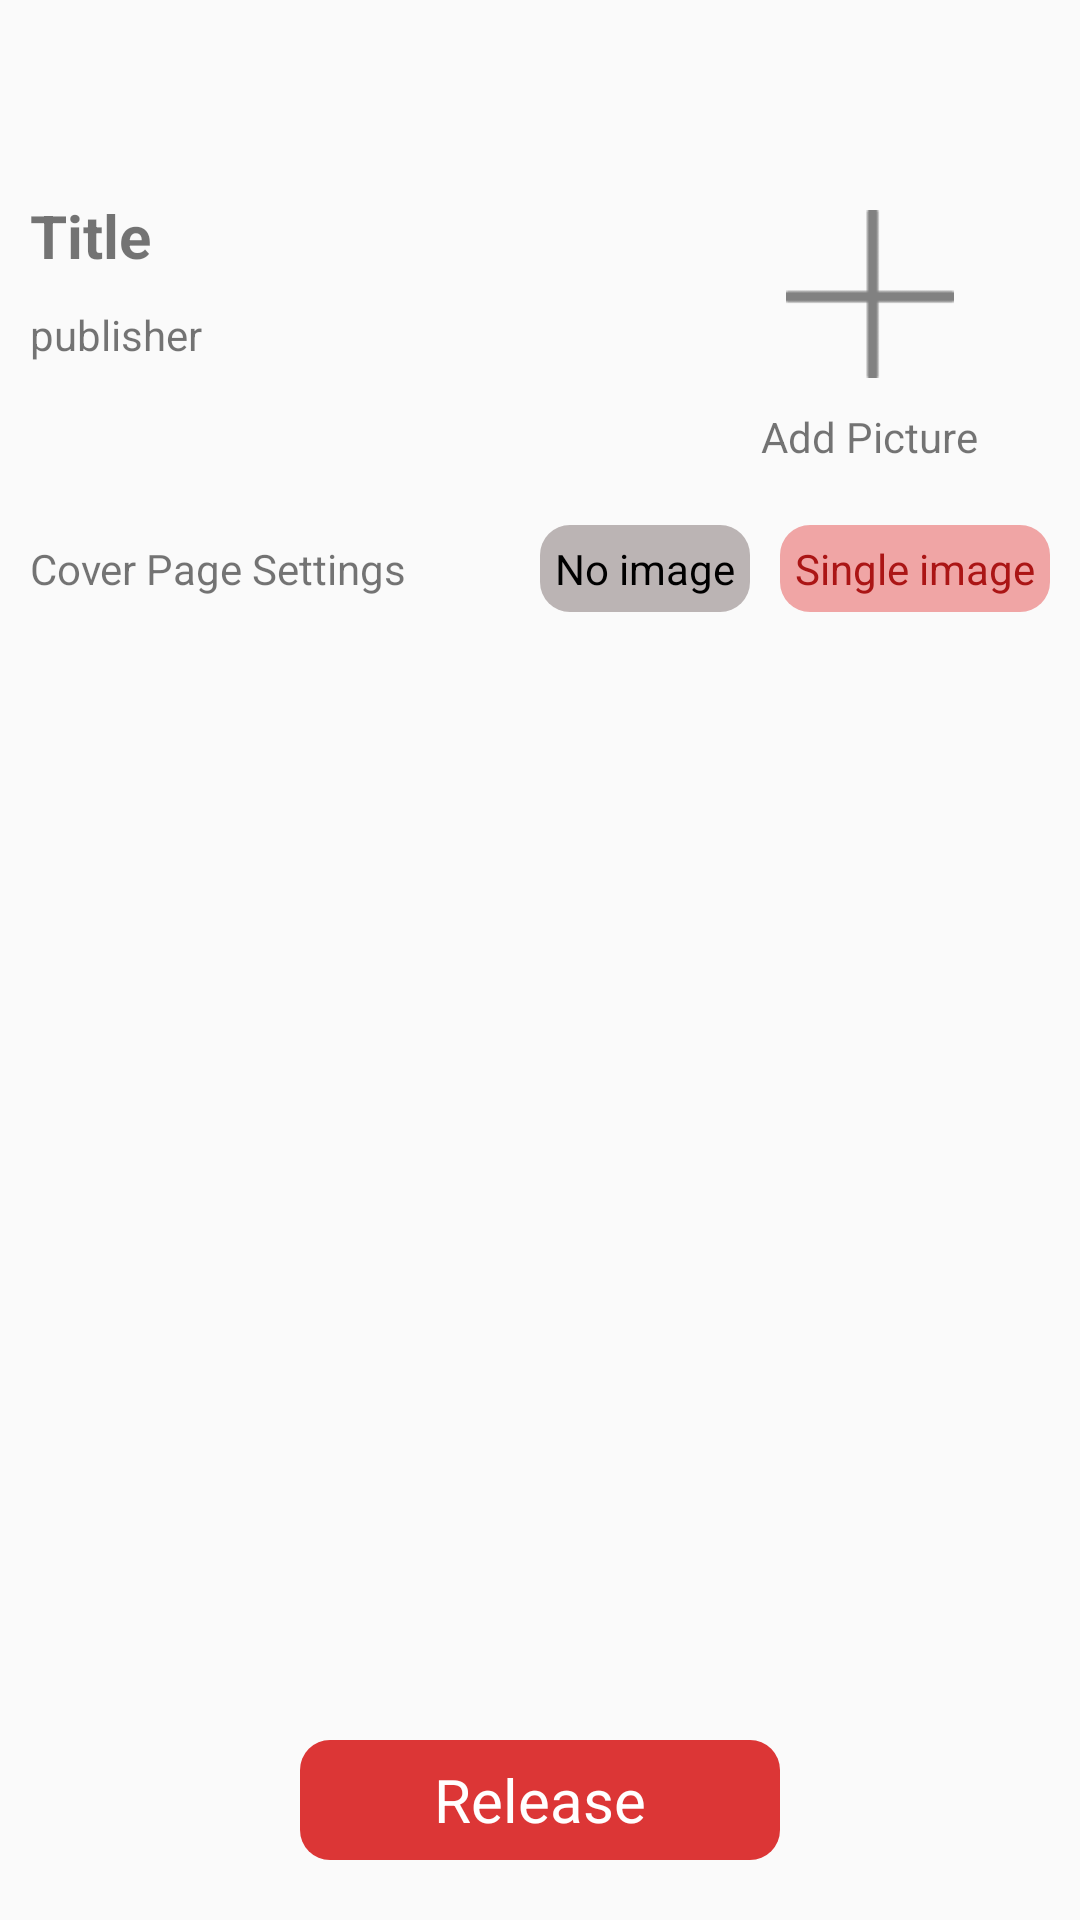

Point at icon controls on the screen. Image size 1080w x 1920h, points as [x,y].
news plus: [870,294]
